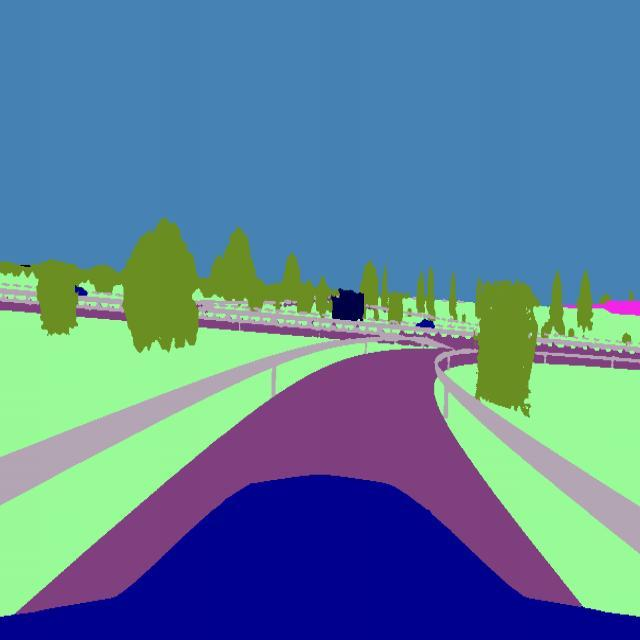safe: (324, 284, 369, 328), (411, 314, 436, 336)
